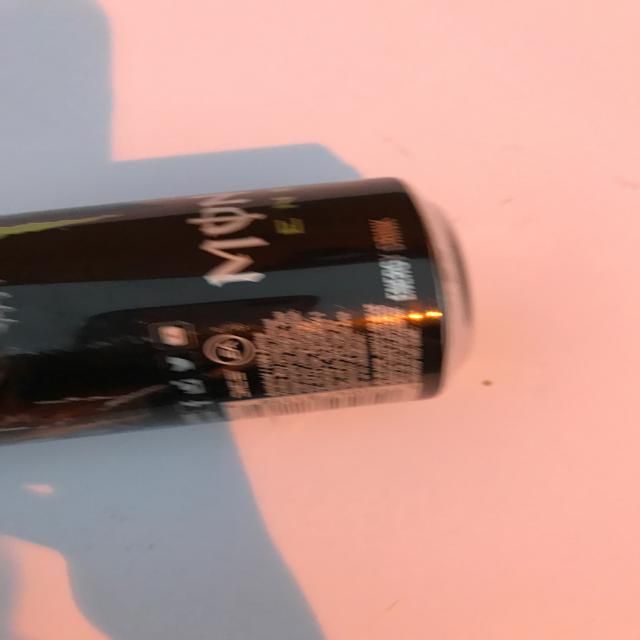Metal: (3, 168, 498, 459)
